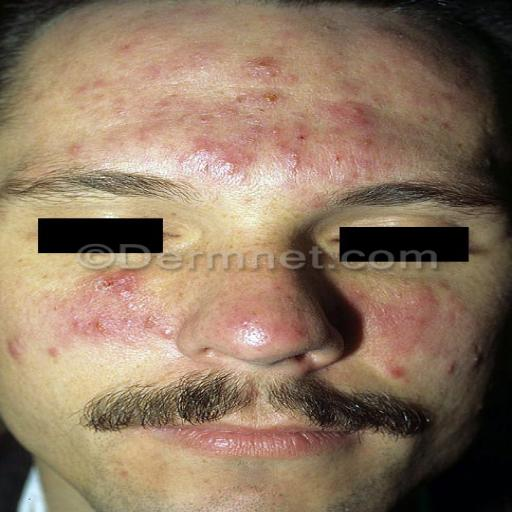Skin_Lesion: (355, 295, 476, 335), (180, 125, 256, 185), (48, 319, 190, 335), (331, 90, 377, 134), (84, 272, 143, 304), (75, 82, 137, 107), (445, 342, 481, 384), (277, 124, 308, 172), (243, 54, 286, 85), (240, 90, 298, 110), (6, 330, 27, 366), (112, 39, 142, 64), (390, 354, 406, 383), (311, 186, 328, 209), (47, 342, 61, 367), (64, 141, 84, 158), (295, 126, 308, 144)
